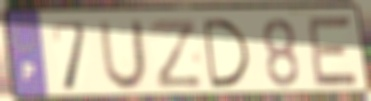7: (51, 20, 88, 93)
8: (261, 16, 300, 89)
D: (199, 17, 254, 91)
E: (306, 14, 361, 89)
U: (97, 18, 149, 93)
Z: (147, 18, 205, 93)
